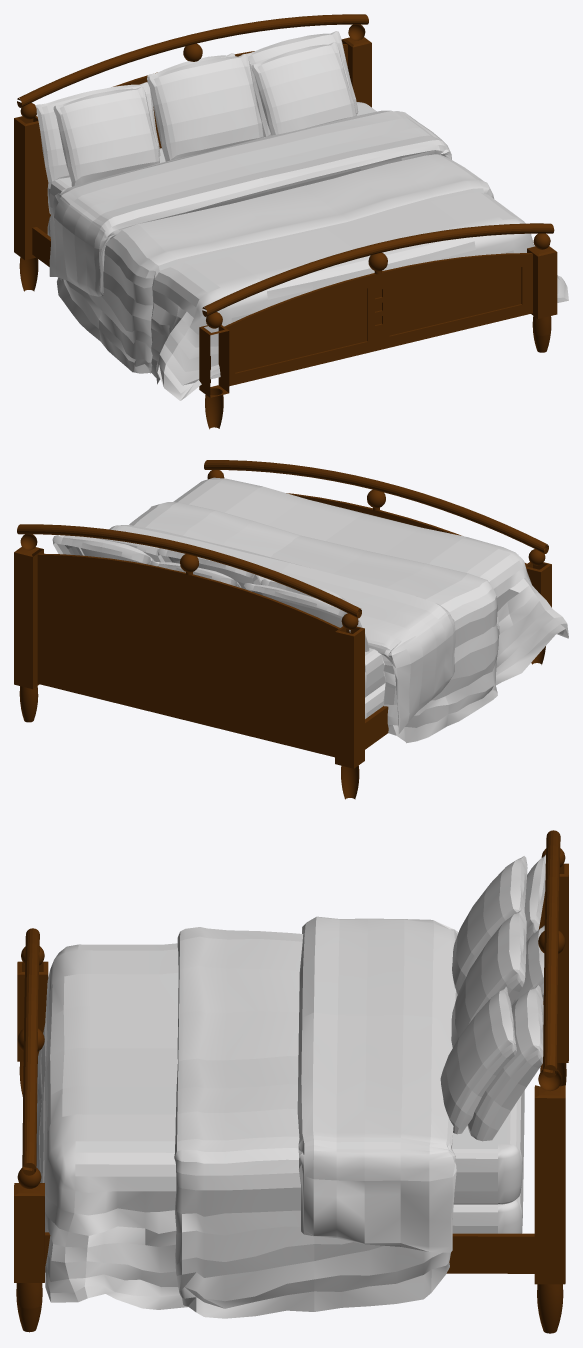
The model's file is bed-19.glb.
The picture shows the model from 3 angles, top to bottom: view 1: azimuth 30°, elevation 25°; view 2: azimuth 150°, elevation 25°; view 3: azimuth 270°, elevation 25°; orthographic projection. The views are drawn at different scales.
Parts seen in each view (by area): view 1: 0_Velvet Red_0.007, WOOD_Herringbone Wood Glossy_0.991, 0_Velvet Red_0.005, 0_Velvet Red_0.004, 0_Velvet Red_0.001, WOOD_Herringbone Wood Glossy_0.974, WOOD_Herringbone Wood Glossy_0.975, 0_Velvet Red_0.006, WOOD_Herringbone Wood Glossy_0.997, WOOD_Herringbone Wood Glossy_0.992, 0_Velvet Red_0.002, WOOD_Herringbone Wood Glossy_0.504 (+7 smaller); view 2: 0_Velvet Red_0.007, WOOD_Herringbone Wood Glossy_0.982, WOOD_Herringbone Wood Glossy_0.974, WOOD_Herringbone Wood Glossy_0.975, WOOD_Herringbone Wood Glossy_0.1002, WOOD_Herringbone Wood Glossy_0.996, WOOD_Herringbone Wood Glossy_0.990, 0_Velvet Red_0.002, 0_Velvet Red_0.006, WOOD_Herringbone Wood Glossy_0.504, WOOD_Herringbone Wood Glossy_0.999, WOOD_Herringbone Wood Glossy_0.992 (+6 smaller); view 3: 0_Velvet Red_0.007, WOOD_Herringbone Wood Glossy_0.1001, 0_Velvet Red_0.001, 0_Velvet Red_0.002, 0_Velvet Red_0.005, 0_Velvet Red_0.004, WOOD_Herringbone Wood Glossy_0.977, WOOD_Herringbone Wood Glossy_0.335, WOOD_Herringbone Wood Glossy_0.992, WOOD_Herringbone Wood Glossy_0.995, 0_Velvet Red_0.006, 0_Velvet Red_0.003 (+1 smaller).
Part boxes in pixels (bbox=[...]): 0_Velvet Red_0.007: bbox=[47, 102, 568, 400]; WOOD_Herringbone Wood Glossy_0.991: bbox=[235, 267, 521, 372]; 0_Velvet Red_0.005: bbox=[147, 54, 263, 161]; 0_Velvet Red_0.004: bbox=[53, 86, 159, 186]; 0_Velvet Red_0.001: bbox=[251, 42, 356, 135]; WOOD_Herringbone Wood Glossy_0.974: bbox=[121, 53, 532, 335]; WOOD_Herringbone Wood Glossy_0.975: bbox=[229, 304, 532, 386]; 0_Velvet Red_0.006: bbox=[35, 82, 160, 188]; WOOD_Herringbone Wood Glossy_0.997: bbox=[25, 123, 44, 260]; WOOD_Herringbone Wood Glossy_0.992: bbox=[19, 257, 551, 429]; 0_Velvet Red_0.002: bbox=[242, 31, 358, 136]; WOOD_Herringbone Wood Glossy_0.504: bbox=[14, 118, 24, 259]; 0_Velvet Red_0.007: bbox=[109, 477, 568, 743]; WOOD_Herringbone Wood Glossy_0.982: bbox=[48, 567, 329, 744]; WOOD_Herringbone Wood Glossy_0.974: bbox=[38, 495, 451, 636]; WOOD_Herringbone Wood Glossy_0.975: bbox=[38, 675, 334, 757]; WOOD_Herringbone Wood Glossy_0.1002: bbox=[14, 549, 43, 689]; WOOD_Herringbone Wood Glossy_0.996: bbox=[335, 632, 353, 768]; WOOD_Herringbone Wood Glossy_0.990: bbox=[178, 584, 199, 712]; 0_Velvet Red_0.002: bbox=[52, 535, 154, 564]; 0_Velvet Red_0.006: bbox=[243, 583, 365, 672]; WOOD_Herringbone Wood Glossy_0.504: bbox=[354, 629, 364, 768]; WOOD_Herringbone Wood Glossy_0.999: bbox=[37, 555, 47, 683]; WOOD_Herringbone Wood Glossy_0.992: bbox=[19, 646, 545, 799]; 0_Velvet Red_0.007: bbox=[36, 916, 524, 1318]; WOOD_Herringbone Wood Glossy_0.1001: bbox=[534, 1095, 565, 1284]; 0_Velvet Red_0.001: bbox=[440, 986, 516, 1134]; 0_Velvet Red_0.002: bbox=[467, 985, 543, 1141]; 0_Velvet Red_0.005: bbox=[451, 909, 526, 1047]; 0_Velvet Red_0.004: bbox=[452, 856, 527, 994]; WOOD_Herringbone Wood Glossy_0.977: bbox=[45, 1235, 534, 1273]; WOOD_Herringbone Wood Glossy_0.335: bbox=[14, 1196, 44, 1282]; WOOD_Herringbone Wood Glossy_0.992: bbox=[16, 1061, 566, 1333]; WOOD_Herringbone Wood Glossy_0.995: bbox=[538, 876, 568, 1062]; 0_Velvet Red_0.006: bbox=[524, 854, 545, 941]; 0_Velvet Red_0.003: bbox=[511, 925, 544, 1005].
Size of the model in its own units: 13.85 by 6.99 by 11.6.
